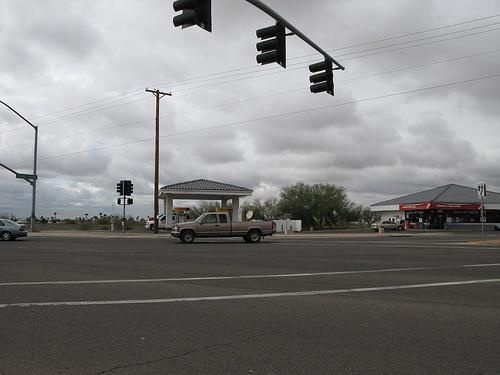car: (168, 209, 279, 249), (146, 210, 187, 234), (1, 220, 33, 244), (368, 218, 404, 233)
